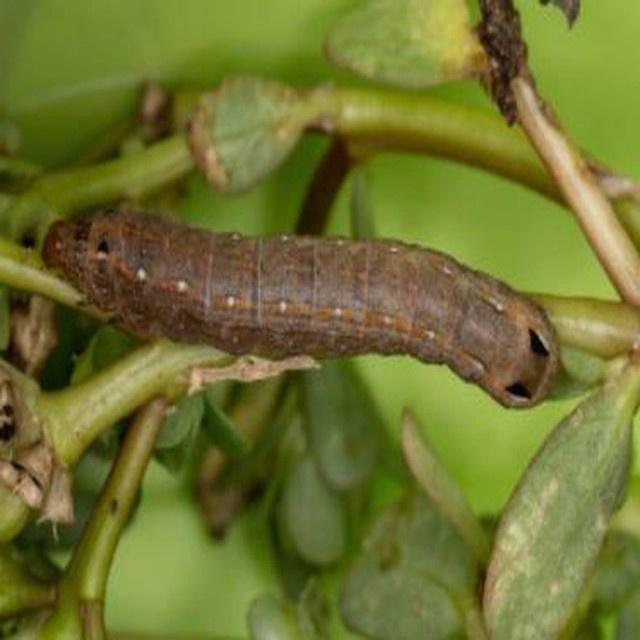gusano_cogollero: (61, 198, 555, 386)
